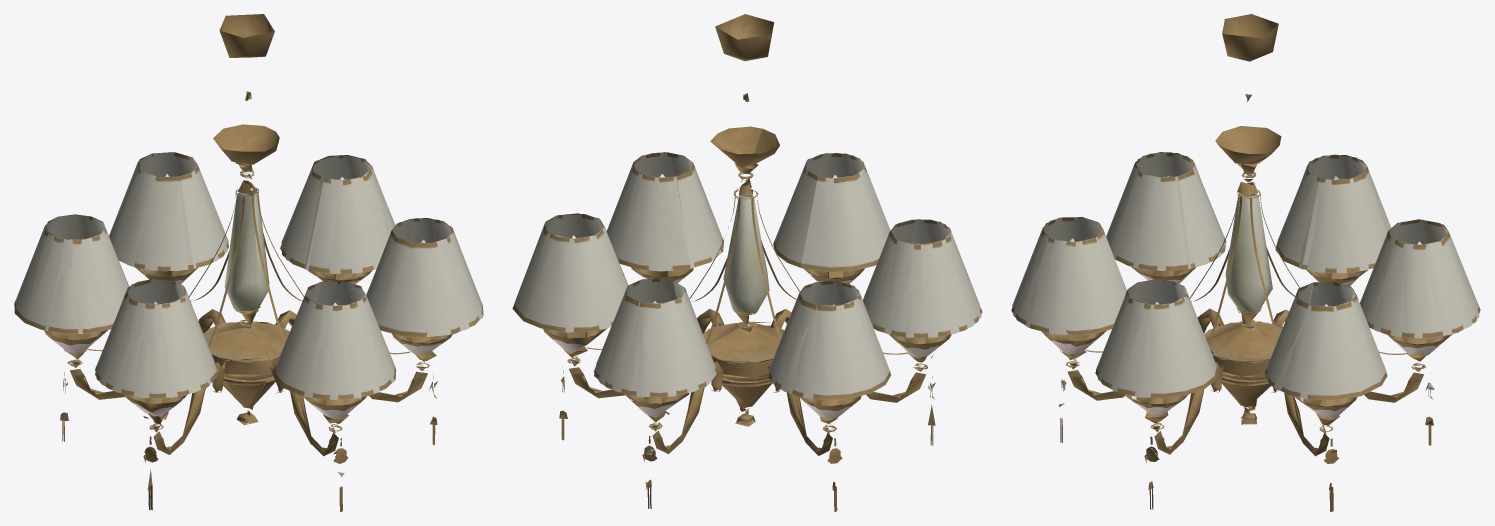
File: chandelier.glb
The picture shows the model from 3 angles, left to right: view 1: azimuth 30°, elevation 25°; view 2: azimuth 150°, elevation 25°; view 3: azimuth 270°, elevation 25°; orthographic projection.
Visible parts, largest first — view 1: Chandelier_01; view 2: Chandelier_01; view 3: Chandelier_01.
Part boxes in pixels (<box>): Chandelier_01: <box>14,14,483,511</box>; Chandelier_01: <box>512,14,982,511</box>; Chandelier_01: <box>1011,14,1480,511</box>.
Bounding box in the file's own units: 0.7466 × 0.7983 × 0.8169.
Materials: 2 (1 with a texture image).
